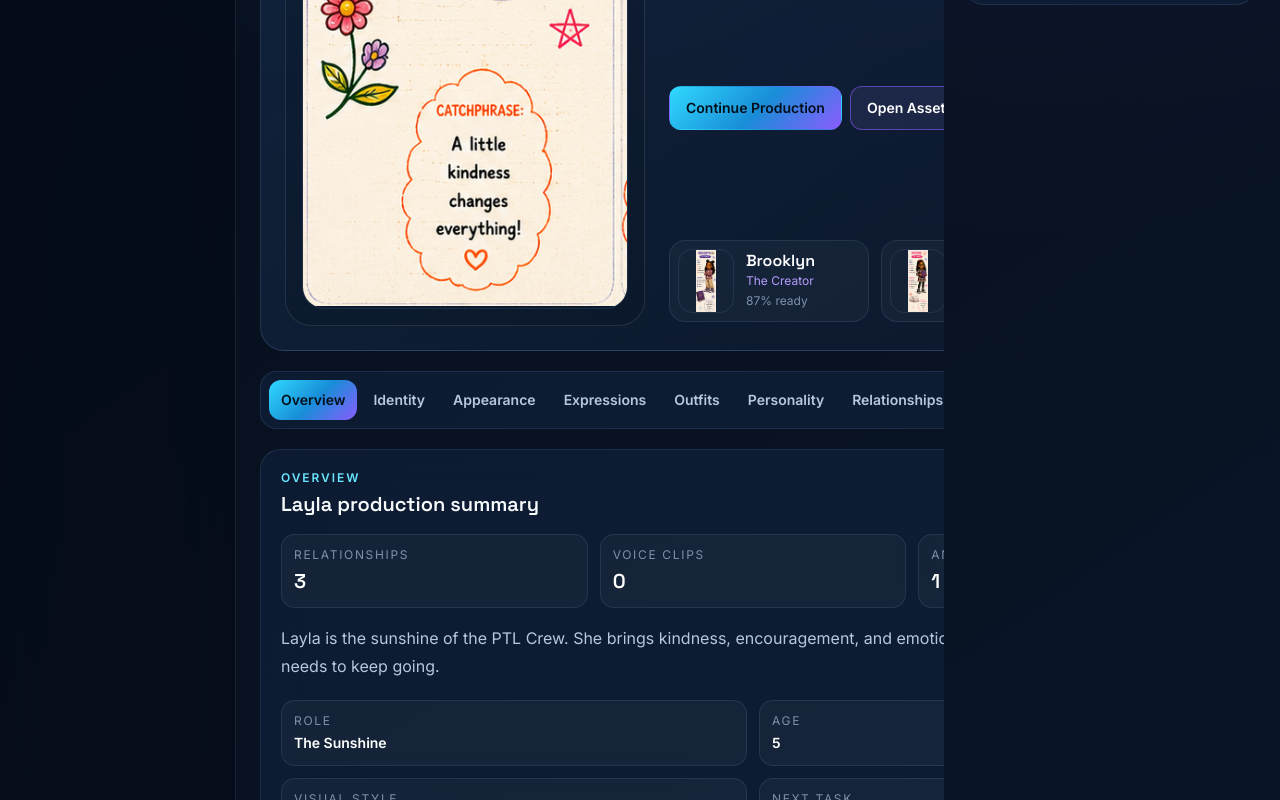
Test: Character Bible foundation › renders visual expression and outfit libraries from structured records
(page scrolled)
Click the button "Expressions" at (605, 400), box x1=552 y1=380 x2=658 y2=420
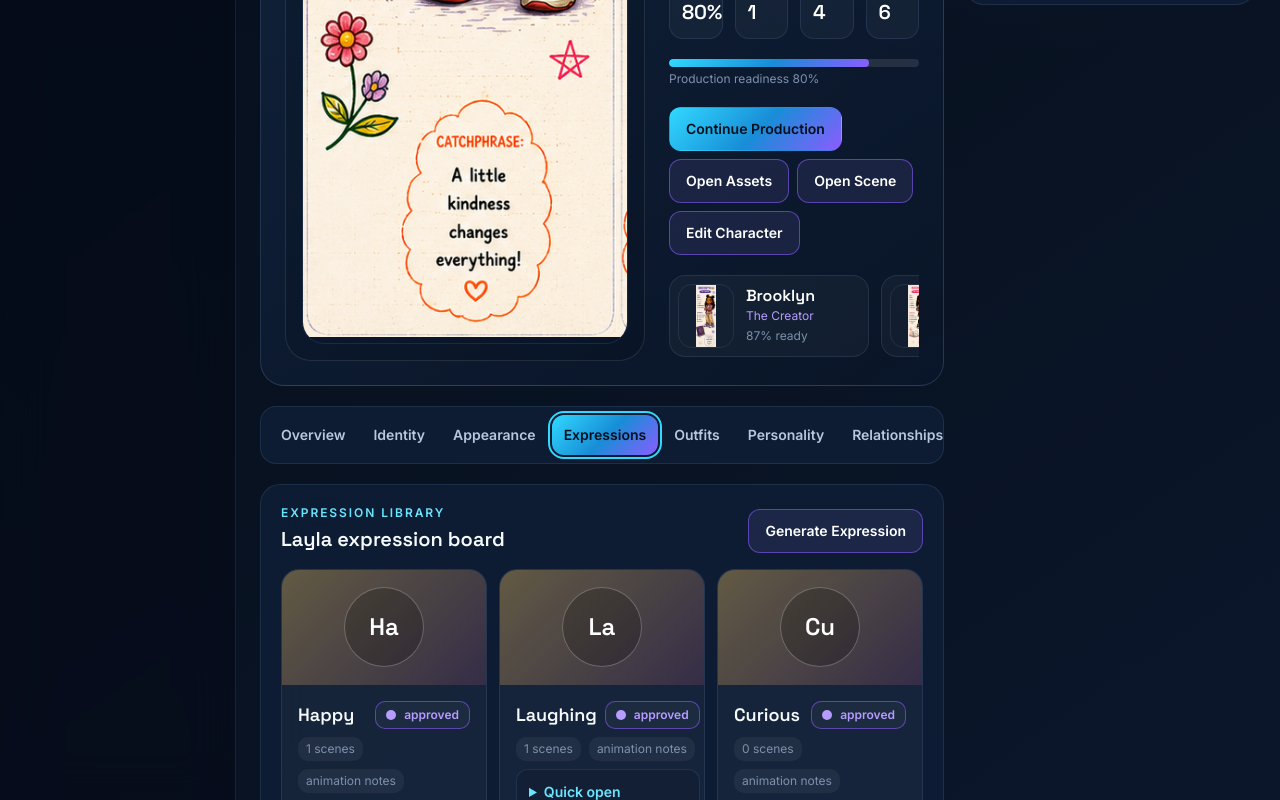
Expected: the heading "Layla expression board" is shown, x1=281 y1=525 x2=505 y2=553
Click the button "Outfits" at (697, 435), box x1=662 y1=415 x2=732 y2=455
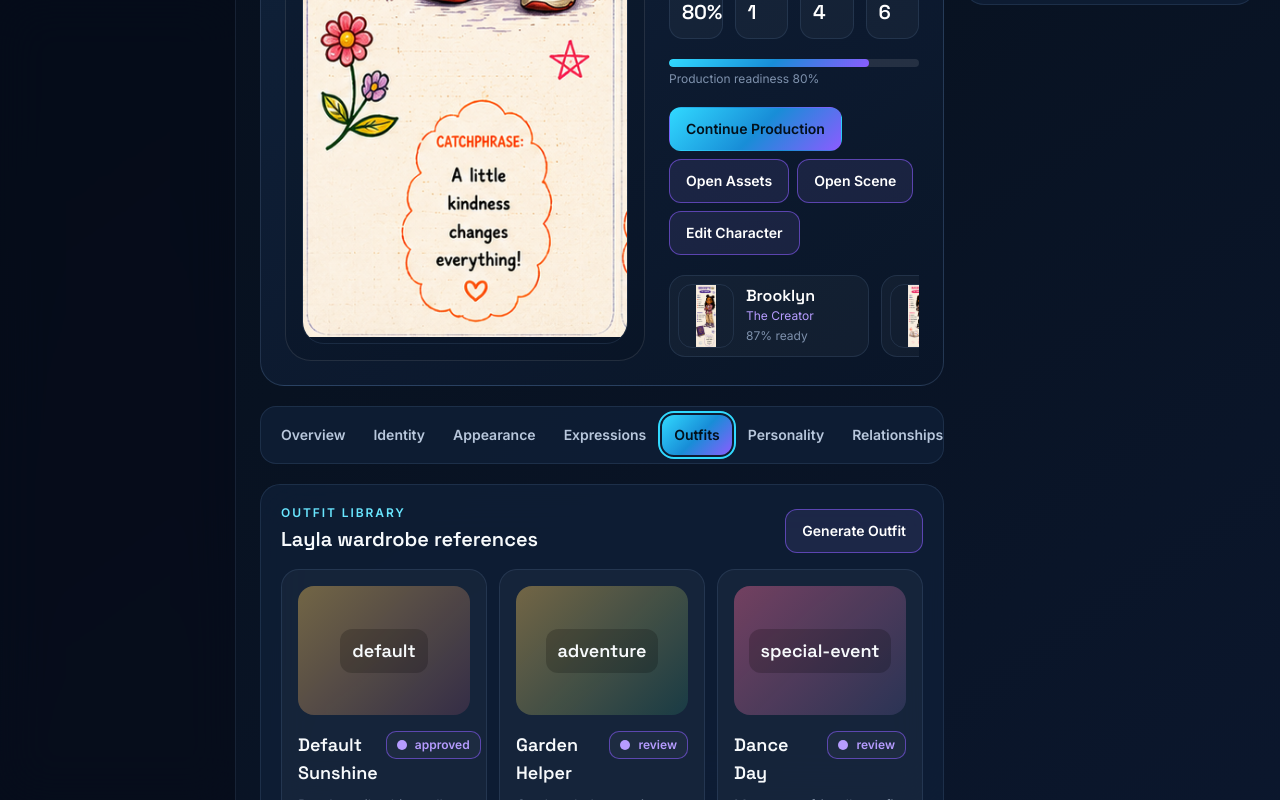
Expected: the heading "Layla wardrobe references" is shown, x1=281 y1=525 x2=538 y2=553
Expected: the heading "Default Sunshine" is shown, x1=298 y1=731 x2=378 y2=787
